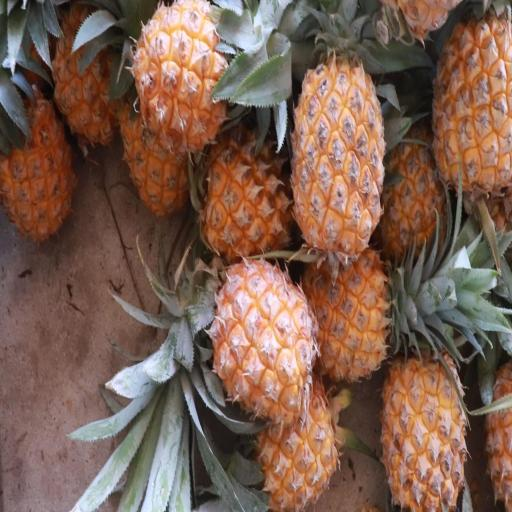Pineapple - v8 v1: (289, 10, 389, 252), (207, 250, 320, 433), (380, 302, 473, 512), (244, 339, 342, 512), (428, 0, 512, 198), (129, 0, 234, 155), (297, 229, 398, 383), (1, 64, 82, 246), (198, 116, 297, 262), (53, 4, 130, 152), (485, 312, 512, 512)
